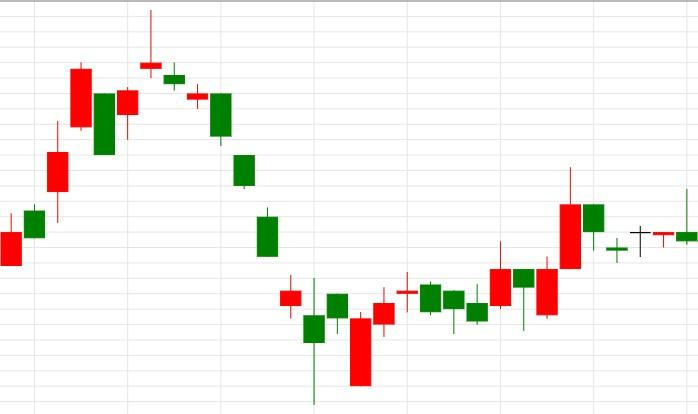hanging_man_fall: (466, 241, 536, 331)
